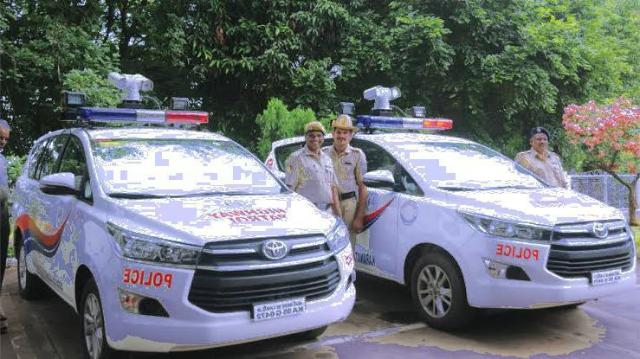police_car: (15, 107, 357, 352), (268, 113, 636, 324)
